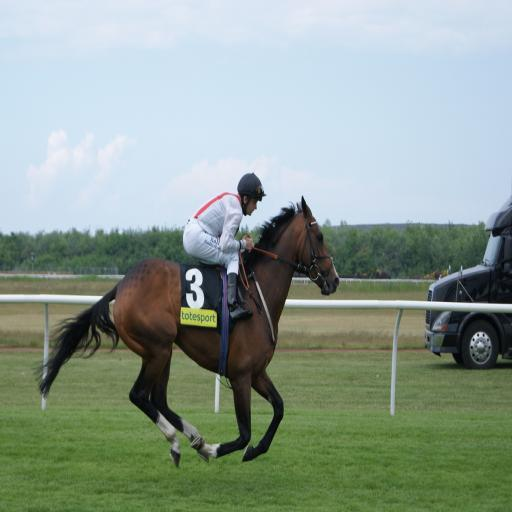horse: (32, 196, 340, 470)
